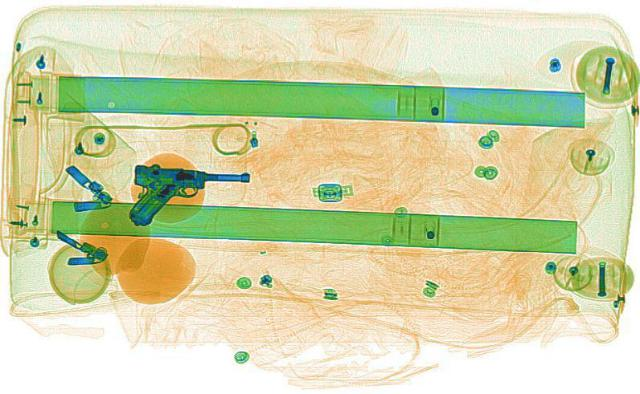Gun: (122, 163, 252, 229)
